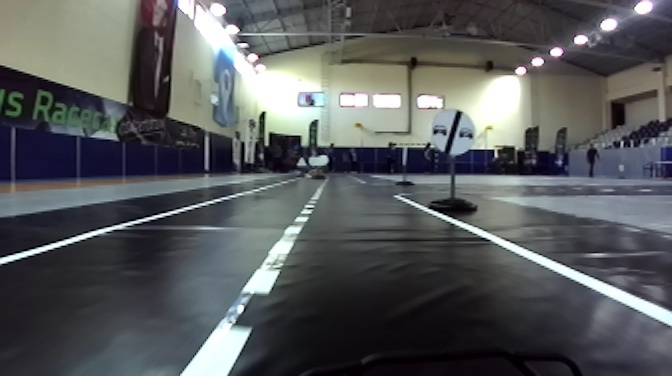sollama_serbest: (432, 107, 478, 154)
